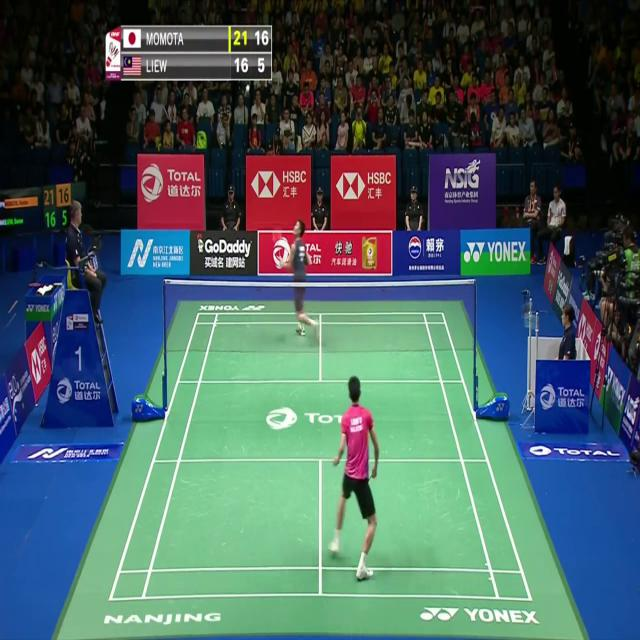Shuttlecock: (245, 82, 251, 94)
